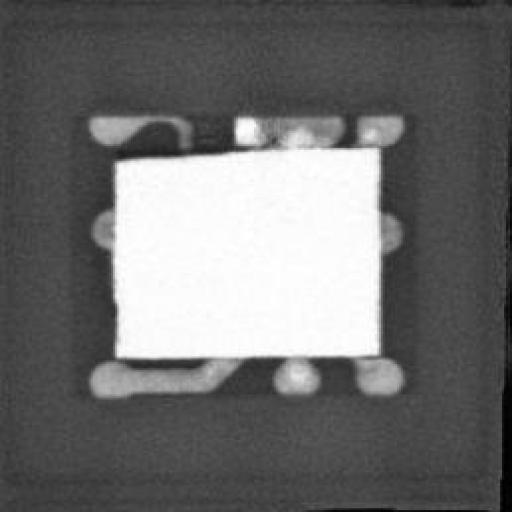DIE_BROKEN: (109, 140, 262, 160)
